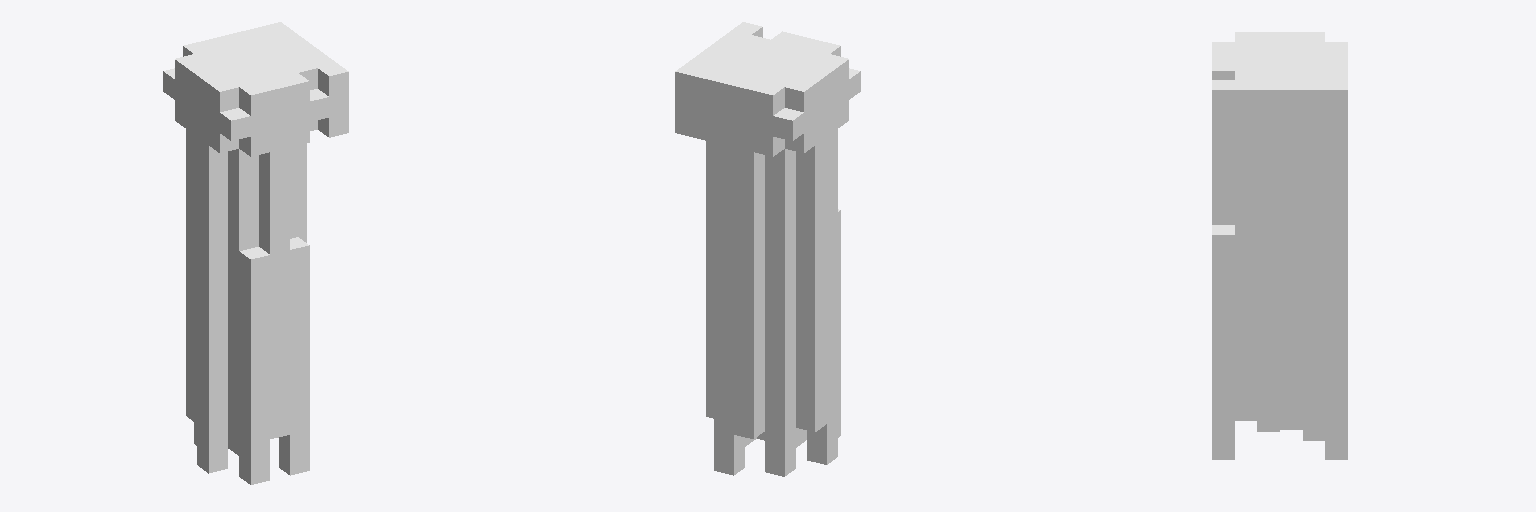
Rendered from Capitain-2.obj.
3 renders of one model, left to right at view 1: azimuth 30°, elevation 25°; view 2: azimuth 150°, elevation 25°; view 3: azimuth 270°, elevation 25°, orthographic.
Parts seen in each view (by area): view 1: object 1; view 2: object 1; view 3: object 1.
Boxes of the visible parts, x1=… form: object 1: x1=163, y1=22, x2=348, y2=484; object 1: x1=675, y1=22, x2=860, y2=476; object 1: x1=1212, y1=32, x2=1347, y2=459.
Bounding box in the file's own units: 0.6 × 1.9 × 0.6.